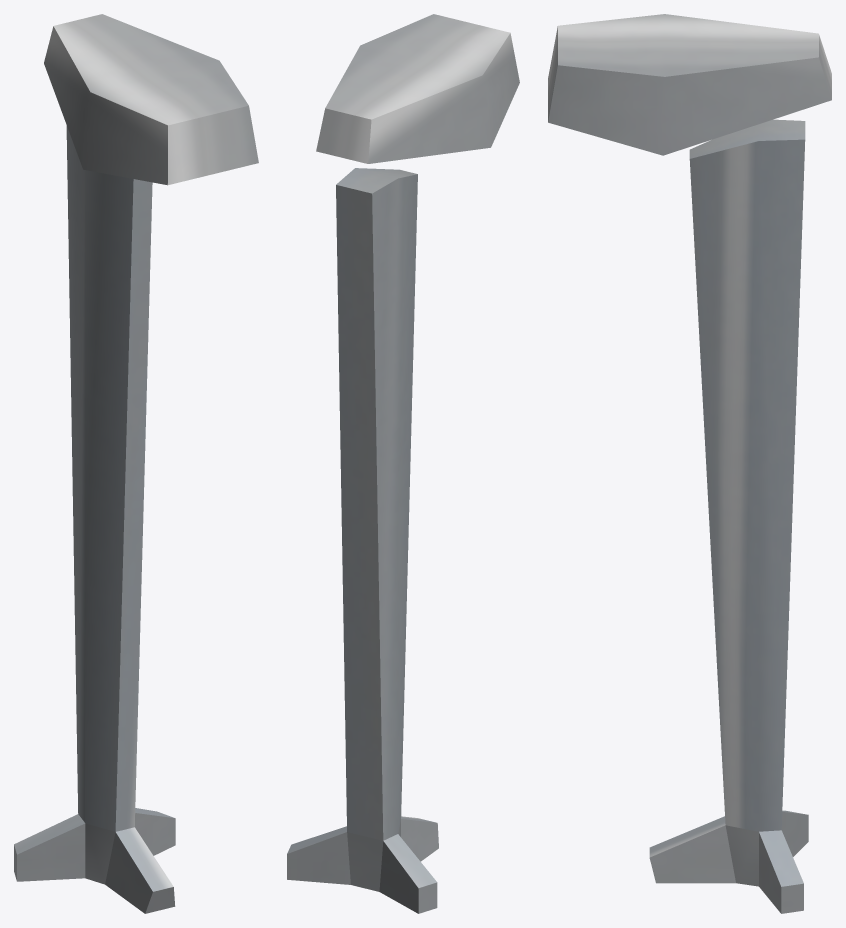
Rendered from SM_StreetLamp.fbx.
3 renders of one model, left to right at view 1: azimuth 30°, elevation 25°; view 2: azimuth 150°, elevation 25°; view 3: azimuth 270°, elevation 25°, orthographic. The views are drawn at different scales.
Visible parts, largest first — view 1: SM_LampPost; view 2: SM_LampPost; view 3: SM_LampPost.
Boxes of the visible parts, box(x1,y1,x2,y2) form: SM_LampPost: box(14, 14, 258, 913); SM_LampPost: box(287, 14, 519, 913); SM_LampPost: box(548, 14, 831, 913).
Size of the model in its own units: 98.98 by 156 by 503.
1 material, 1 textured.
